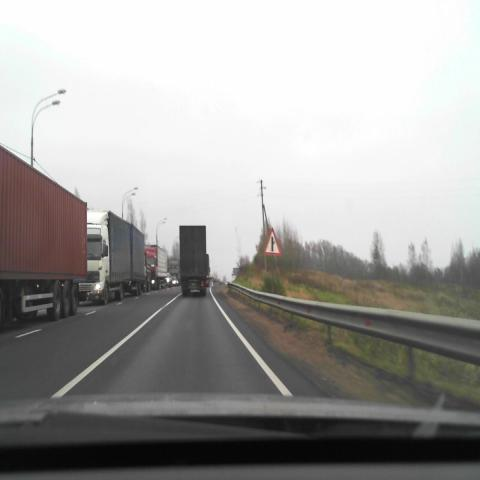2_3_4: (262, 227, 282, 255)
